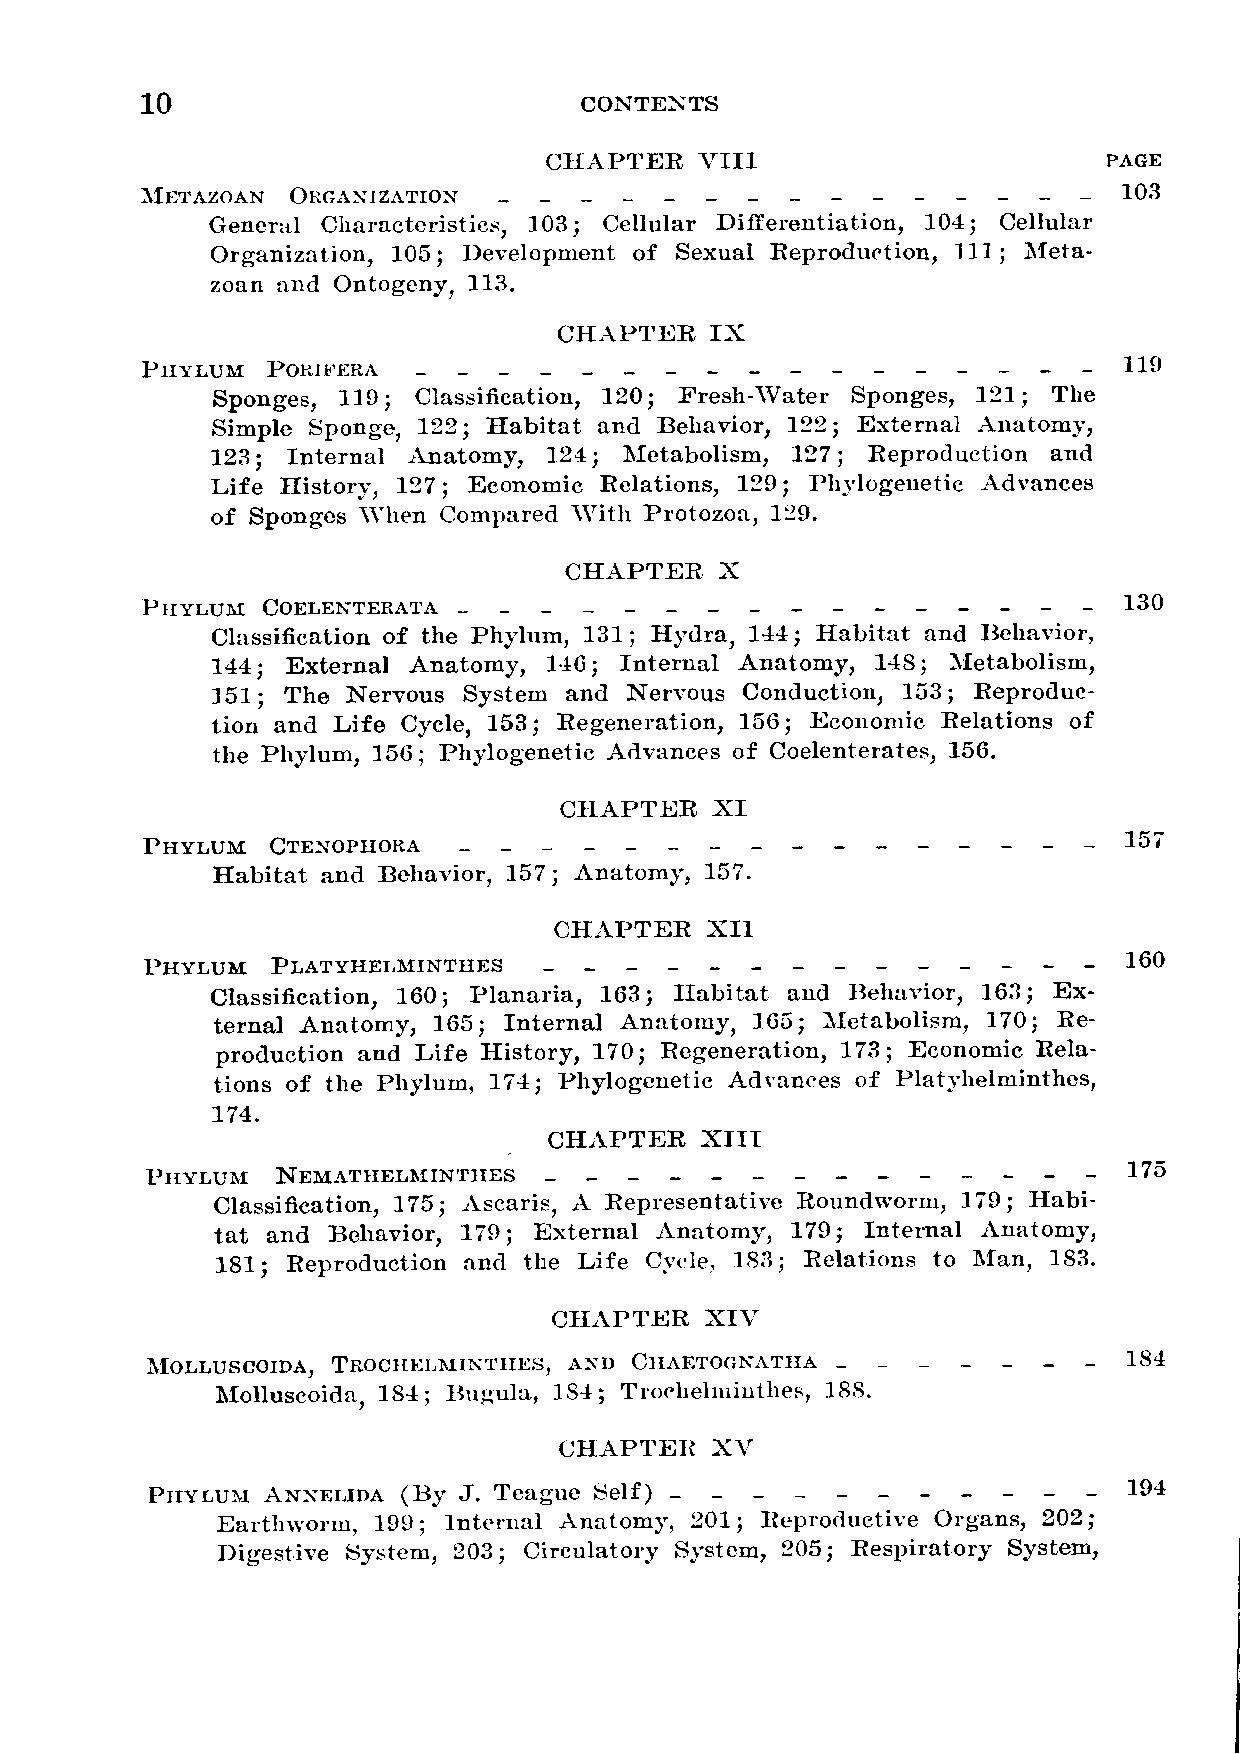TOC_chapter: (132, 592, 1104, 774), (141, 949, 1106, 1127), (141, 352, 1099, 530), (130, 176, 1104, 305), (146, 1159, 1096, 1274), (141, 1472, 1108, 1580), (140, 1349, 875, 1402), (137, 832, 760, 891), (544, 913, 760, 953), (553, 793, 756, 831), (546, 1296, 758, 1330), (539, 144, 758, 176), (553, 1431, 768, 1463), (562, 553, 742, 586), (556, 319, 743, 348), (552, 1129, 764, 1151)
TOC_pagenumber: (1118, 1456, 1172, 1506), (1118, 819, 1168, 862), (1121, 580, 1169, 619), (1123, 939, 1168, 976), (1118, 1342, 1170, 1372), (1118, 173, 1161, 207), (1125, 1150, 1168, 1182), (1121, 348, 1164, 378)
chapter: (574, 86, 723, 122)
